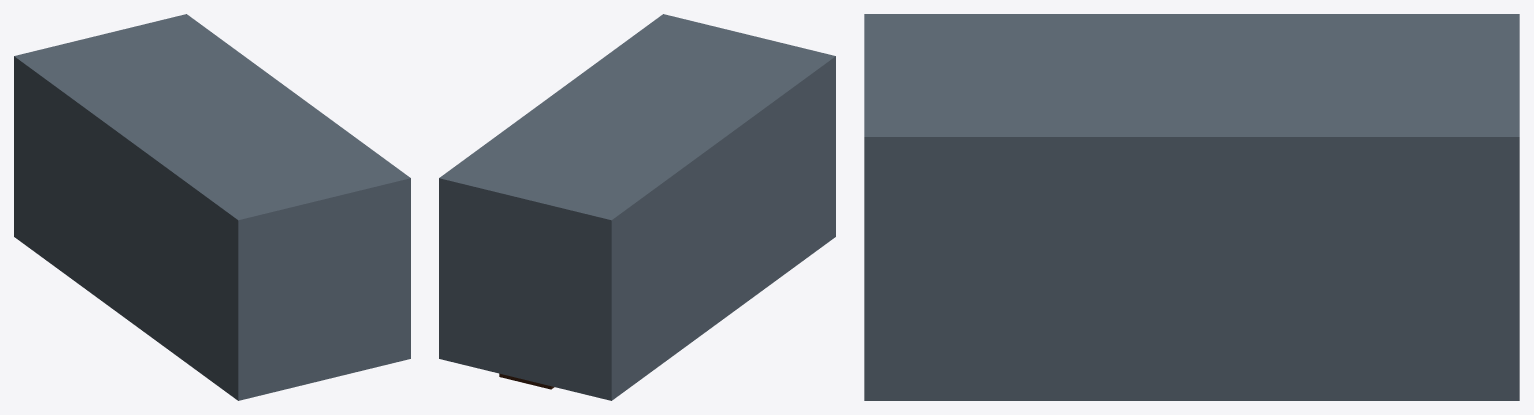
The model's file is building.obj.
The picture shows the model from 3 angles, left to right: view 1: azimuth 30°, elevation 25°; view 2: azimuth 150°, elevation 25°; view 3: azimuth 270°, elevation 25°; orthographic projection. The views are drawn at different scales.
Visible parts, largest first — view 1: building_body; view 2: building_body; view 3: building_body.
Boxes of the visible parts, x1,y1,x2,y2 form: building_body: (14,14,410,400); building_body: (439,14,835,400); building_body: (864,14,1519,400).
Bounding box in the file's own units: 1.6 × 1.63 × 3.6.
